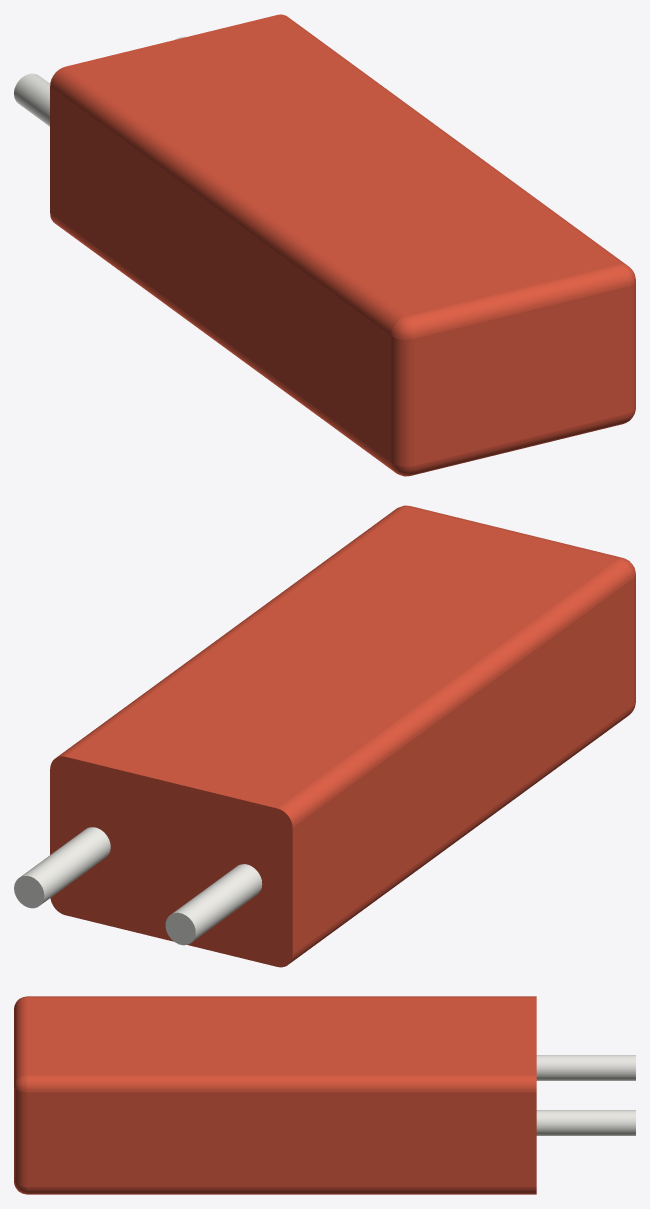
File: C_Rect_L4.0mm_W2.5mm_P2.50mm.glb
The picture shows the model from 3 angles, top to bottom: view 1: azimuth 30°, elevation 25°; view 2: azimuth 150°, elevation 25°; view 3: azimuth 270°, elevation 25°; orthographic projection. The views are drawn at different scales.
Visible parts, largest first — view 1: Shape_IndexedFaceSet.009, Shape_IndexedFaceSet, Shape_IndexedFaceSet.008, Shape_IndexedFaceSet.004, Shape_IndexedFaceSet.016, Shape_IndexedFaceSet.002, Shape_IndexedFaceSet.001, Shape_IndexedFaceSet.011, Shape_IndexedFaceSet.015, Shape_IndexedFaceSet.013, Shape_IndexedFaceSet.017; view 2: Shape_IndexedFaceSet.009, Shape_IndexedFaceSet, Shape_IndexedFaceSet.003, Shape_IndexedFaceSet.004, Shape_IndexedFaceSet.013, Shape_IndexedFaceSet.014, Shape_IndexedFaceSet.001, Shape_IndexedFaceSet.011, Shape_IndexedFaceSet.020, Shape_IndexedFaceSet.021; view 3: Shape_IndexedFaceSet.012, Shape_IndexedFaceSet.009, Shape_IndexedFaceSet.011, Shape_IndexedFaceSet.010, Shape_IndexedFaceSet.013, Shape_IndexedFaceSet.014, Shape_IndexedFaceSet.017, Shape_IndexedFaceSet.004, Shape_IndexedFaceSet.016.
Boxes of the visible parts, box(x1,y1,x2,y2) form: Shape_IndexedFaceSet.009: box(65, 15, 617, 316); Shape_IndexedFaceSet: box(50, 86, 391, 462); Shape_IndexedFaceSet.008: box(415, 287, 627, 465); Shape_IndexedFaceSet.004: box(50, 67, 405, 335); Shape_IndexedFaceSet.016: box(406, 264, 627, 338); Shape_IndexedFaceSet.002: box(391, 336, 414, 466); Shape_IndexedFaceSet.001: box(50, 213, 394, 471); Shape_IndexedFaceSet.011: box(278, 14, 626, 265); Shape_IndexedFaceSet.015: box(412, 414, 627, 475); Shape_IndexedFaceSet.013: box(14, 73, 50, 126); Shape_IndexedFaceSet.017: box(627, 282, 635, 413); Shape_IndexedFaceSet.009: box(65, 507, 618, 808); Shape_IndexedFaceSet: box(292, 578, 633, 954); Shape_IndexedFaceSet.003: box(50, 756, 292, 967); Shape_IndexedFaceSet.004: box(277, 559, 633, 827); Shape_IndexedFaceSet.013: box(172, 864, 262, 941); Shape_IndexedFaceSet.014: box(21, 827, 110, 904); Shape_IndexedFaceSet.001: box(289, 705, 633, 963); Shape_IndexedFaceSet.011: box(57, 506, 405, 757); Shape_IndexedFaceSet.020: box(165, 912, 195, 945); Shape_IndexedFaceSet.021: box(14, 876, 44, 908); Shape_IndexedFaceSet.012: box(27, 1092, 536, 1186); Shape_IndexedFaceSet.009: box(27, 997, 536, 1074); Shape_IndexedFaceSet.011: box(27, 1075, 536, 1092); Shape_IndexedFaceSet.010: box(27, 1187, 536, 1194); Shape_IndexedFaceSet.013: box(536, 1055, 635, 1080); Shape_IndexedFaceSet.014: box(536, 1110, 635, 1135); Shape_IndexedFaceSet.017: box(14, 1088, 26, 1186); Shape_IndexedFaceSet.004: box(27, 996, 536, 997); Shape_IndexedFaceSet.016: box(14, 997, 26, 1084).
Bounding box in the file's own units: 1.57 × 0.984 × 4.69.
